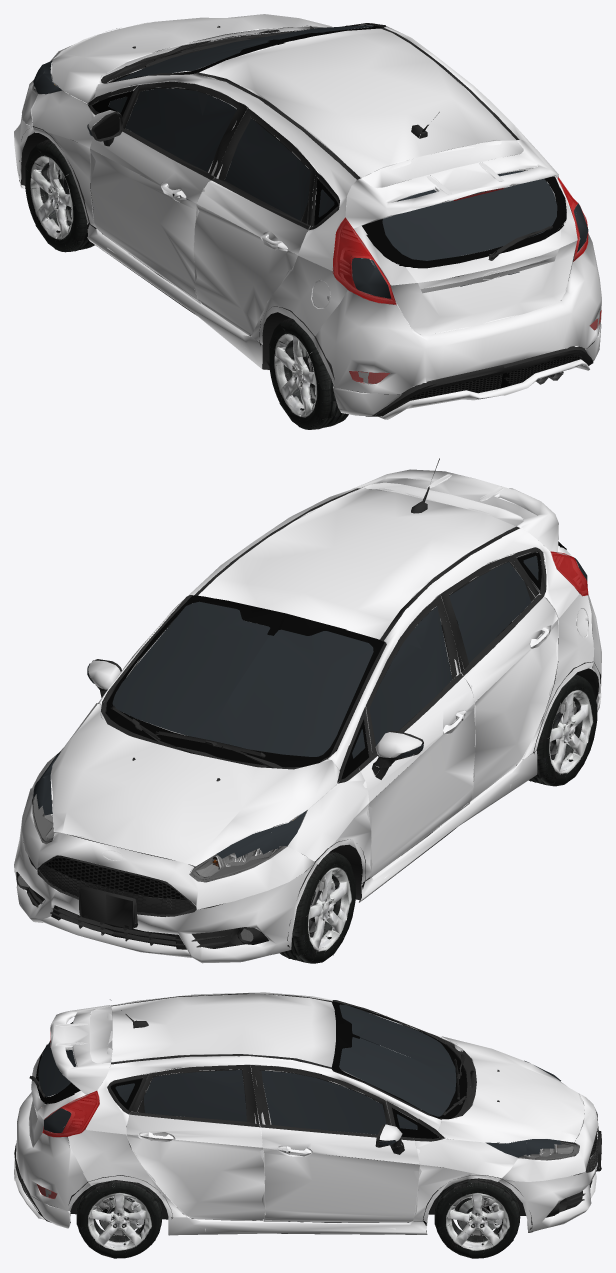
File: carro.glb
3 views of the same model, one above another, from view 1: azimuth 30°, elevation 25°; view 2: azimuth 150°, elevation 25°; view 3: azimuth 270°, elevation 25° (orthographic). The views are drawn at different scales.
Parts seen in each view (by area): view 1: Corpo, Roda_RL, Roda_FL; view 2: Corpo, Roda_FL, Roda_RL; view 3: Corpo, Roda_FR, Roda_RR.
Boxes of the visible parts, box(x1,y1,x2,y2) form: Corpo: box(14, 14, 601, 419); Roda_RL: box(269, 317, 348, 429); Roda_FL: box(25, 139, 94, 252); Corpo: box(14, 458, 601, 963); Roda_FL: box(280, 851, 356, 963); Roda_RL: box(528, 674, 597, 786); Corpo: box(14, 992, 601, 1235); Roda_FR: box(434, 1178, 520, 1258); Roda_RR: box(76, 1180, 162, 1258).
Size of the model in its own units: 1.97 by 1.62 by 4.07.
14 materials, 4 textured.
